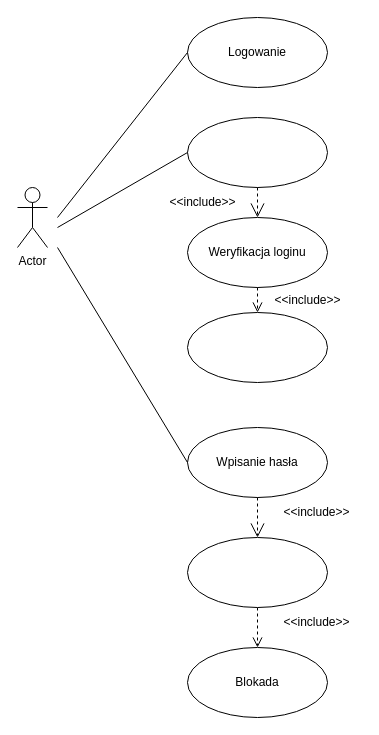
This 379x735 diagram has some shape labels left out. Each missing label, with the box of its shape:
Rejetracja: (186, 312, 328, 382)
Weryfikacja hasła: (186, 536, 328, 608)
Wpisanie loginu: (186, 116, 328, 188)
